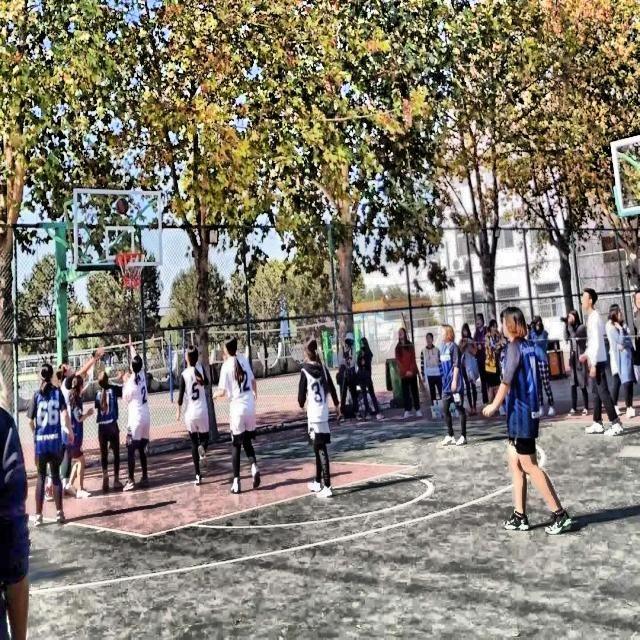rim: (118, 252, 146, 288)
